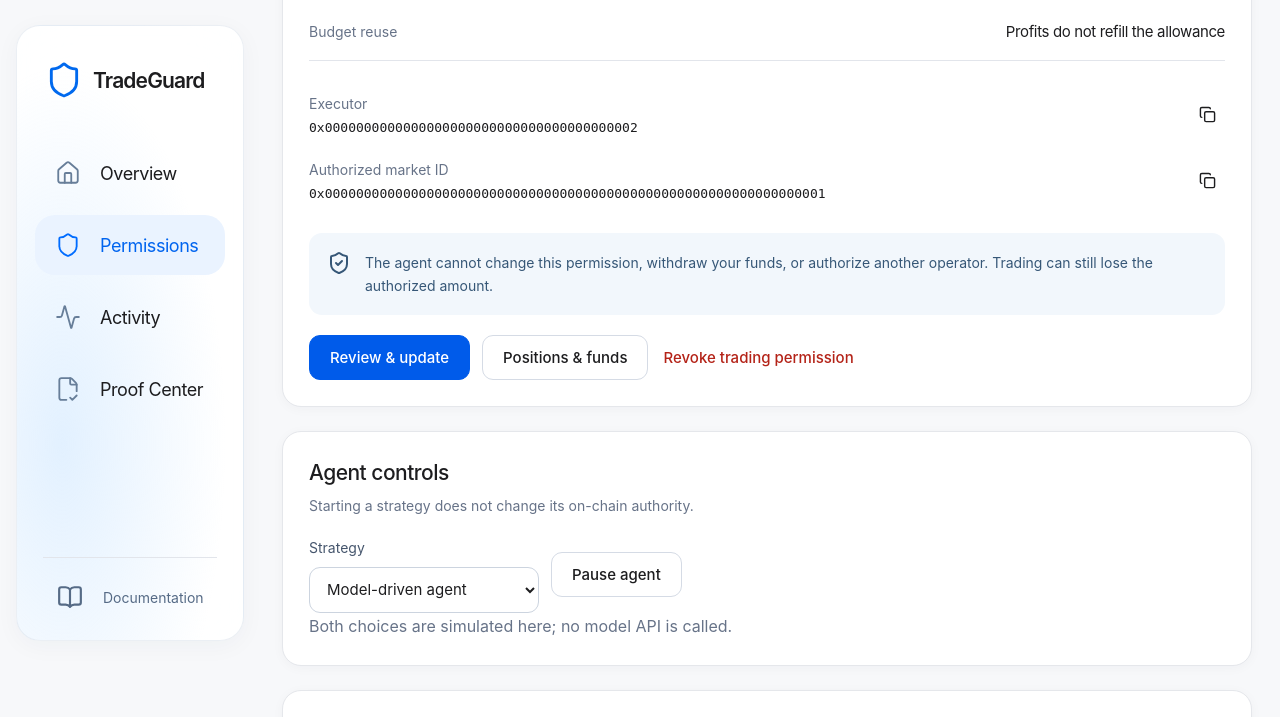
working product flows › confirms revocation and preserves recovery
(page scrolled)
What coordinates should you click on to do the following:
click the button "Revoke trading permission"
I would click on:
 (759, 358)
Its box is [660,335,857,380].
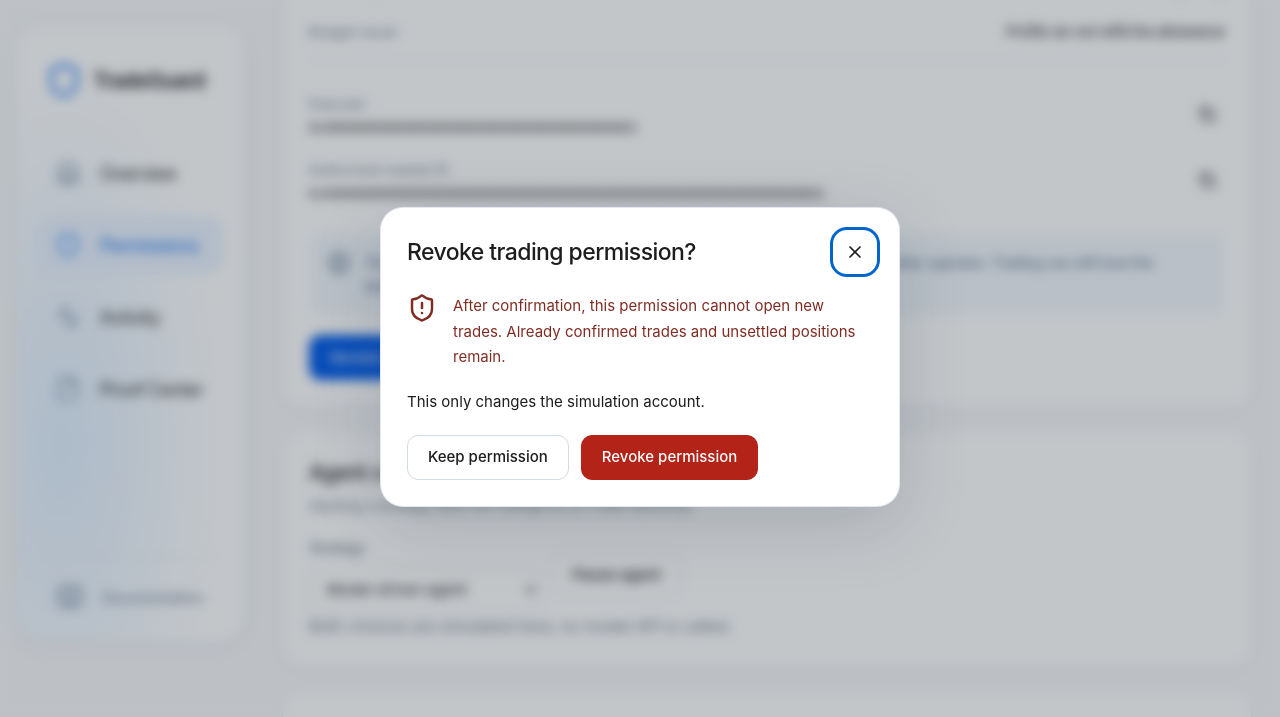
What coordinates should you click on to do the following:
click the button "Revoke permission"
I would click on:
 (670, 457)
Its box is [581,435,758,480].
(page scrolled)
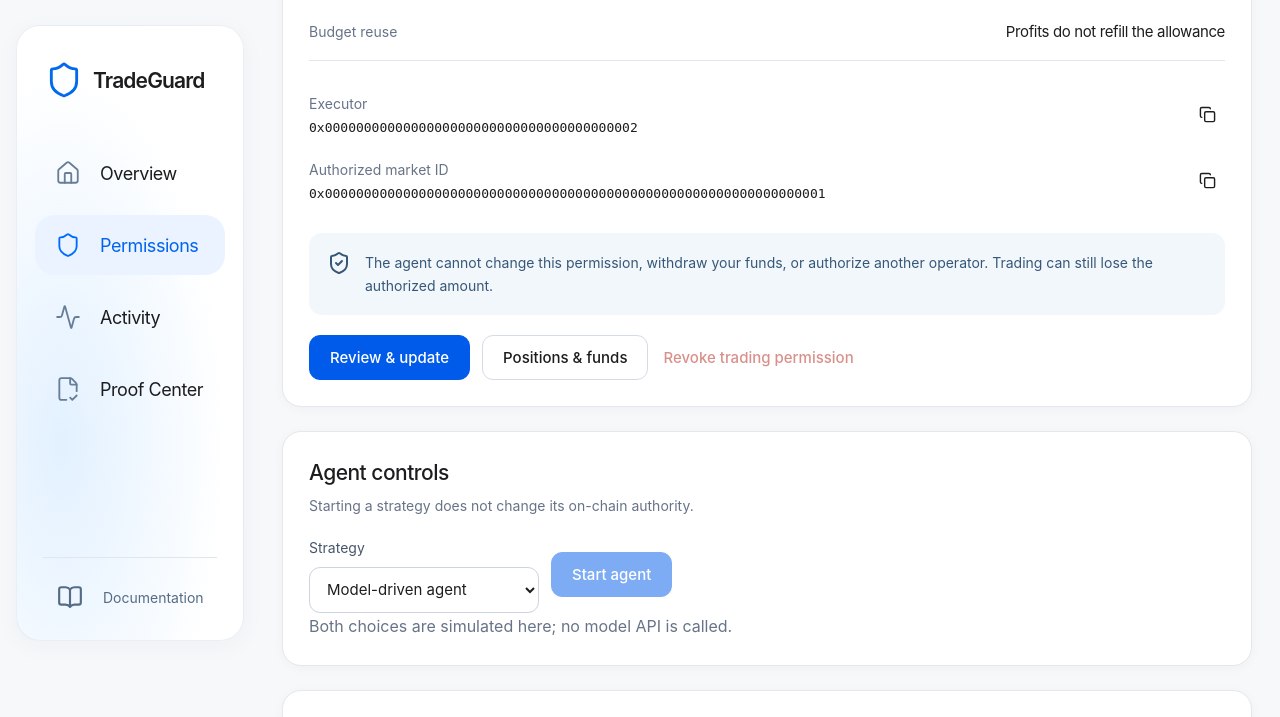
Expected: the button "Positions & funds" is enabled, [482,335,648,380]
Result: the dialog is gone
